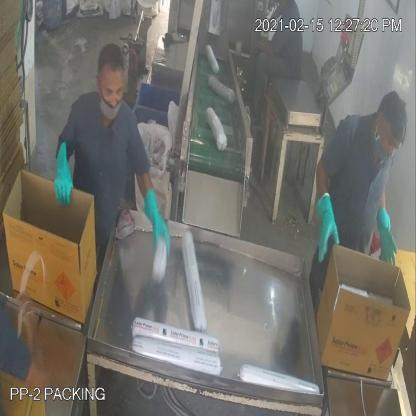glove: (139, 179, 175, 260), (40, 136, 76, 210), (312, 186, 343, 265), (371, 207, 401, 268)
no_glove: (252, 34, 284, 64)
